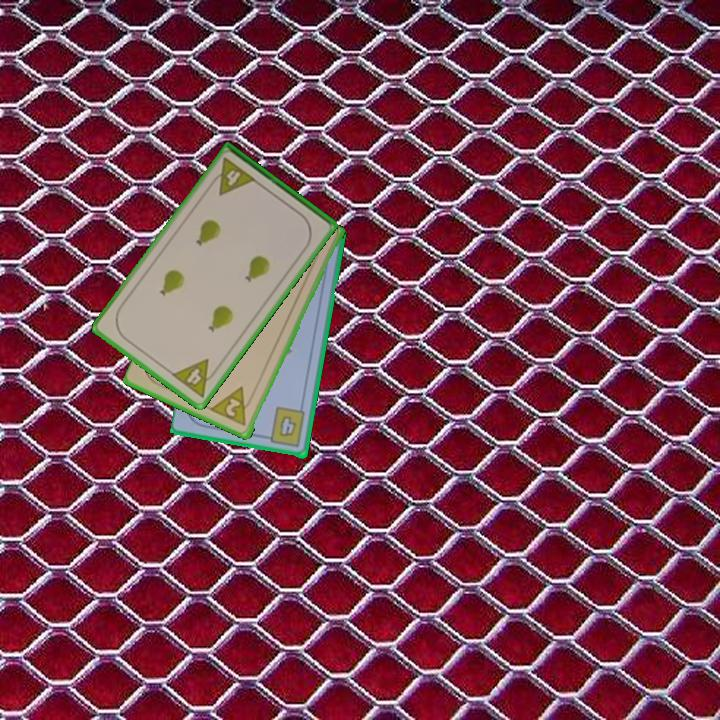2p: (208, 383, 256, 429)
4b: (260, 404, 308, 451)
4p: (168, 355, 222, 400), (206, 154, 259, 198)
